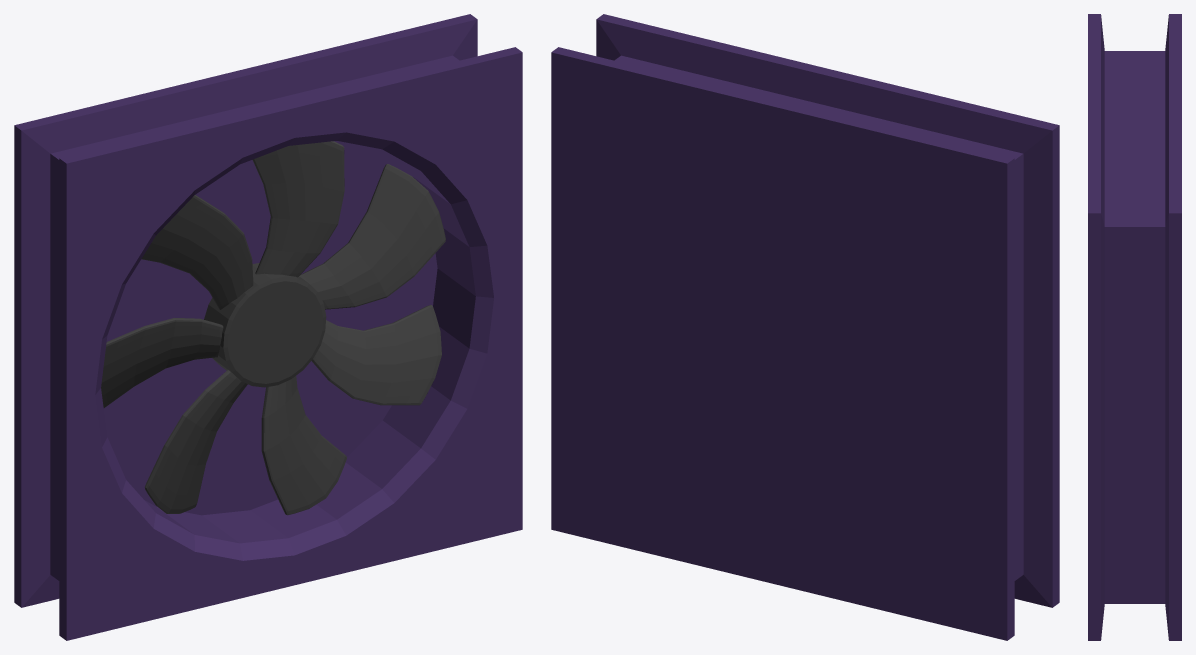
File: cooler.glb
The picture shows the model from 3 angles, left to right: view 1: azimuth 30°, elevation 25°; view 2: azimuth 150°, elevation 25°; view 3: azimuth 270°, elevation 25°; orthographic projection. The views are drawn at different scales.
Parts seen in each view (by area): view 1: Chassis, Fan; view 2: Chassis; view 3: Chassis.
Boxes of the visible parts, left/top/right/bottom form: Chassis: left=14, top=14, right=522, bottom=640; Fan: left=101, top=141, right=445, bottom=515; Chassis: left=551, top=14, right=1059, bottom=640; Chassis: left=1088, top=14, right=1181, bottom=640.
Bounding box in the file's own units: 0.7944 × 0.7944 × 0.1582.
